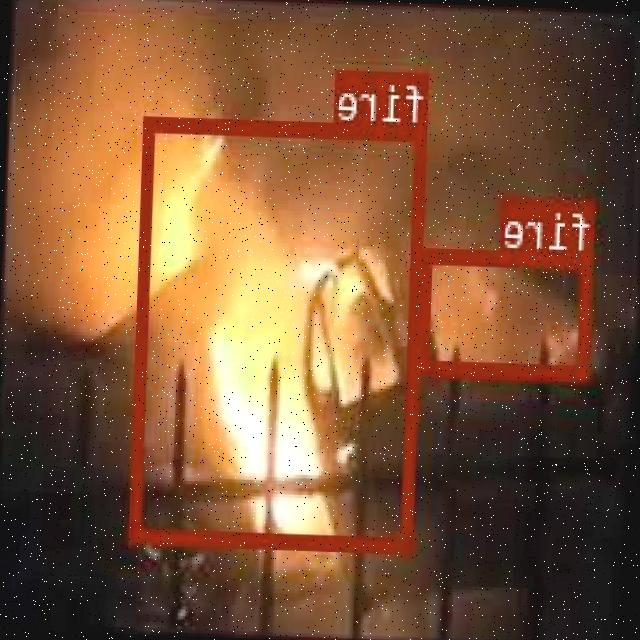fire: (132, 114, 428, 550), (420, 246, 596, 377)
